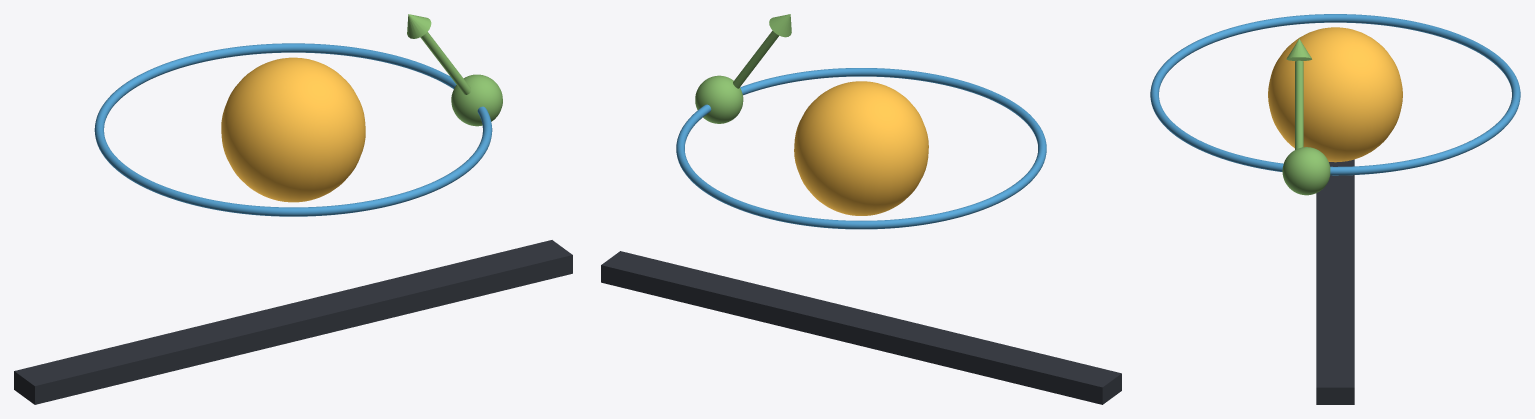
Rendered from space-orbit-path.glb.
3 views of the same model, side by side, from view 1: azimuth 30°, elevation 25°; view 2: azimuth 150°, elevation 25°; view 3: azimuth 270°, elevation 25° (orthographic). The views are drawn at different scales.
Visible parts, largest first — view 1: gravity-orbit-bench, central-mass-planet, orbit-path-loop, orbiting-body-satellite, velocity-arrow-sideways-speed-shaft; view 2: gravity-orbit-bench, central-mass-planet, orbit-path-loop, orbiting-body-satellite, velocity-arrow-sideways-speed-shaft; view 3: central-mass-planet, gravity-orbit-bench, orbit-path-loop, orbiting-body-satellite, velocity-arrow-sideways-speed-shaft.
Part boxes in pixels (x1,y1,x2,y2): gravity-orbit-bench: (14, 240, 572, 404); central-mass-planet: (221, 57, 365, 202); orbit-path-loop: (94, 43, 492, 216); orbiting-body-satellite: (451, 74, 502, 126); velocity-arrow-sideways-speed-shaft: (420, 31, 470, 94); gravity-orbit-bench: (601, 251, 1121, 404); central-mass-planet: (794, 81, 928, 215); orbit-path-loop: (676, 68, 1046, 229); orbiting-body-satellite: (695, 75, 743, 123); velocity-arrow-sideways-speed-shaft: (733, 30, 778, 88); central-mass-planet: (1268, 27, 1402, 162); gravity-orbit-bench: (1316, 159, 1354, 404); orbit-path-loop: (1150, 14, 1520, 175); orbiting-body-satellite: (1282, 147, 1330, 195); velocity-arrow-sideways-speed-shaft: (1295, 60, 1303, 149).
Size of what is drawn, in the model's own units: 2.4 by 1.32 by 1.54.
